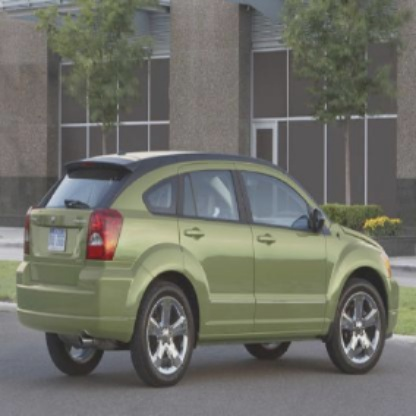Vehicle: (17, 152, 401, 387)
